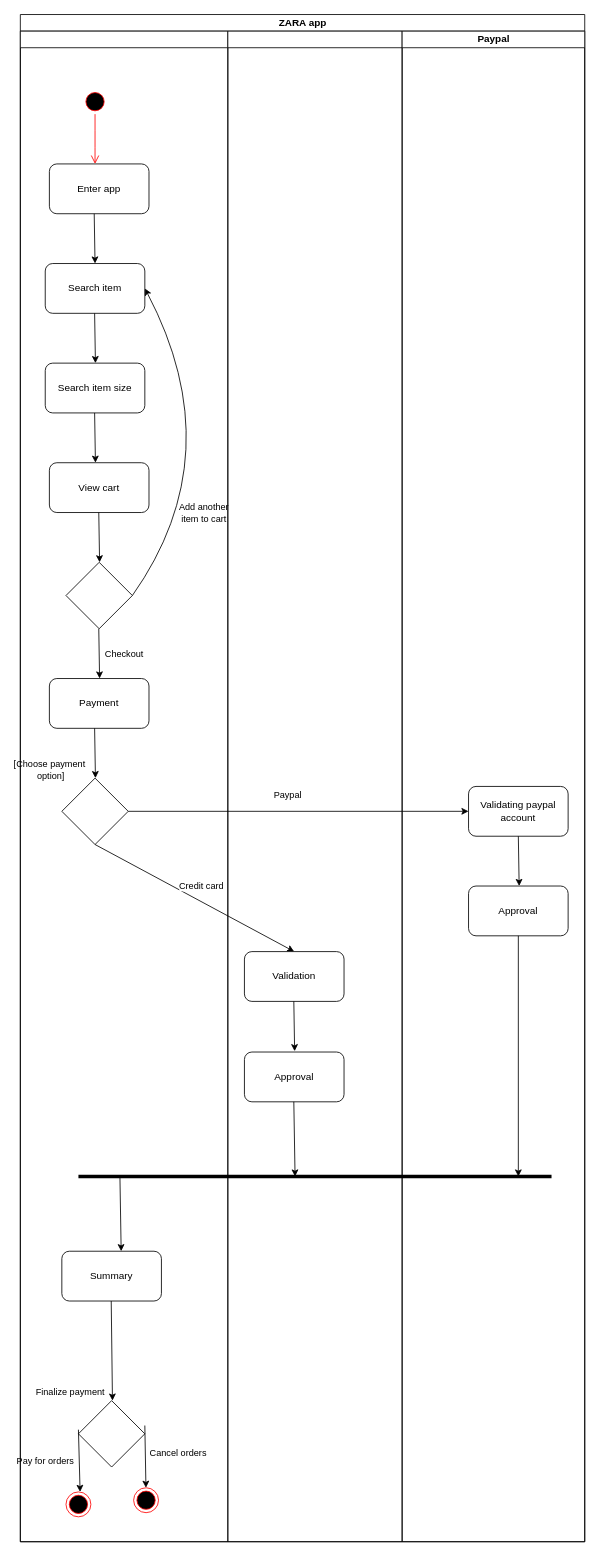
This 600x1556 diagram has some shape labels left out. The shapes that lost their labels are listed below. From the top down, each one's centre as x and y in pixels, then its label:
At (124,786): "Customer".
At (314,786): "Credit card company".
